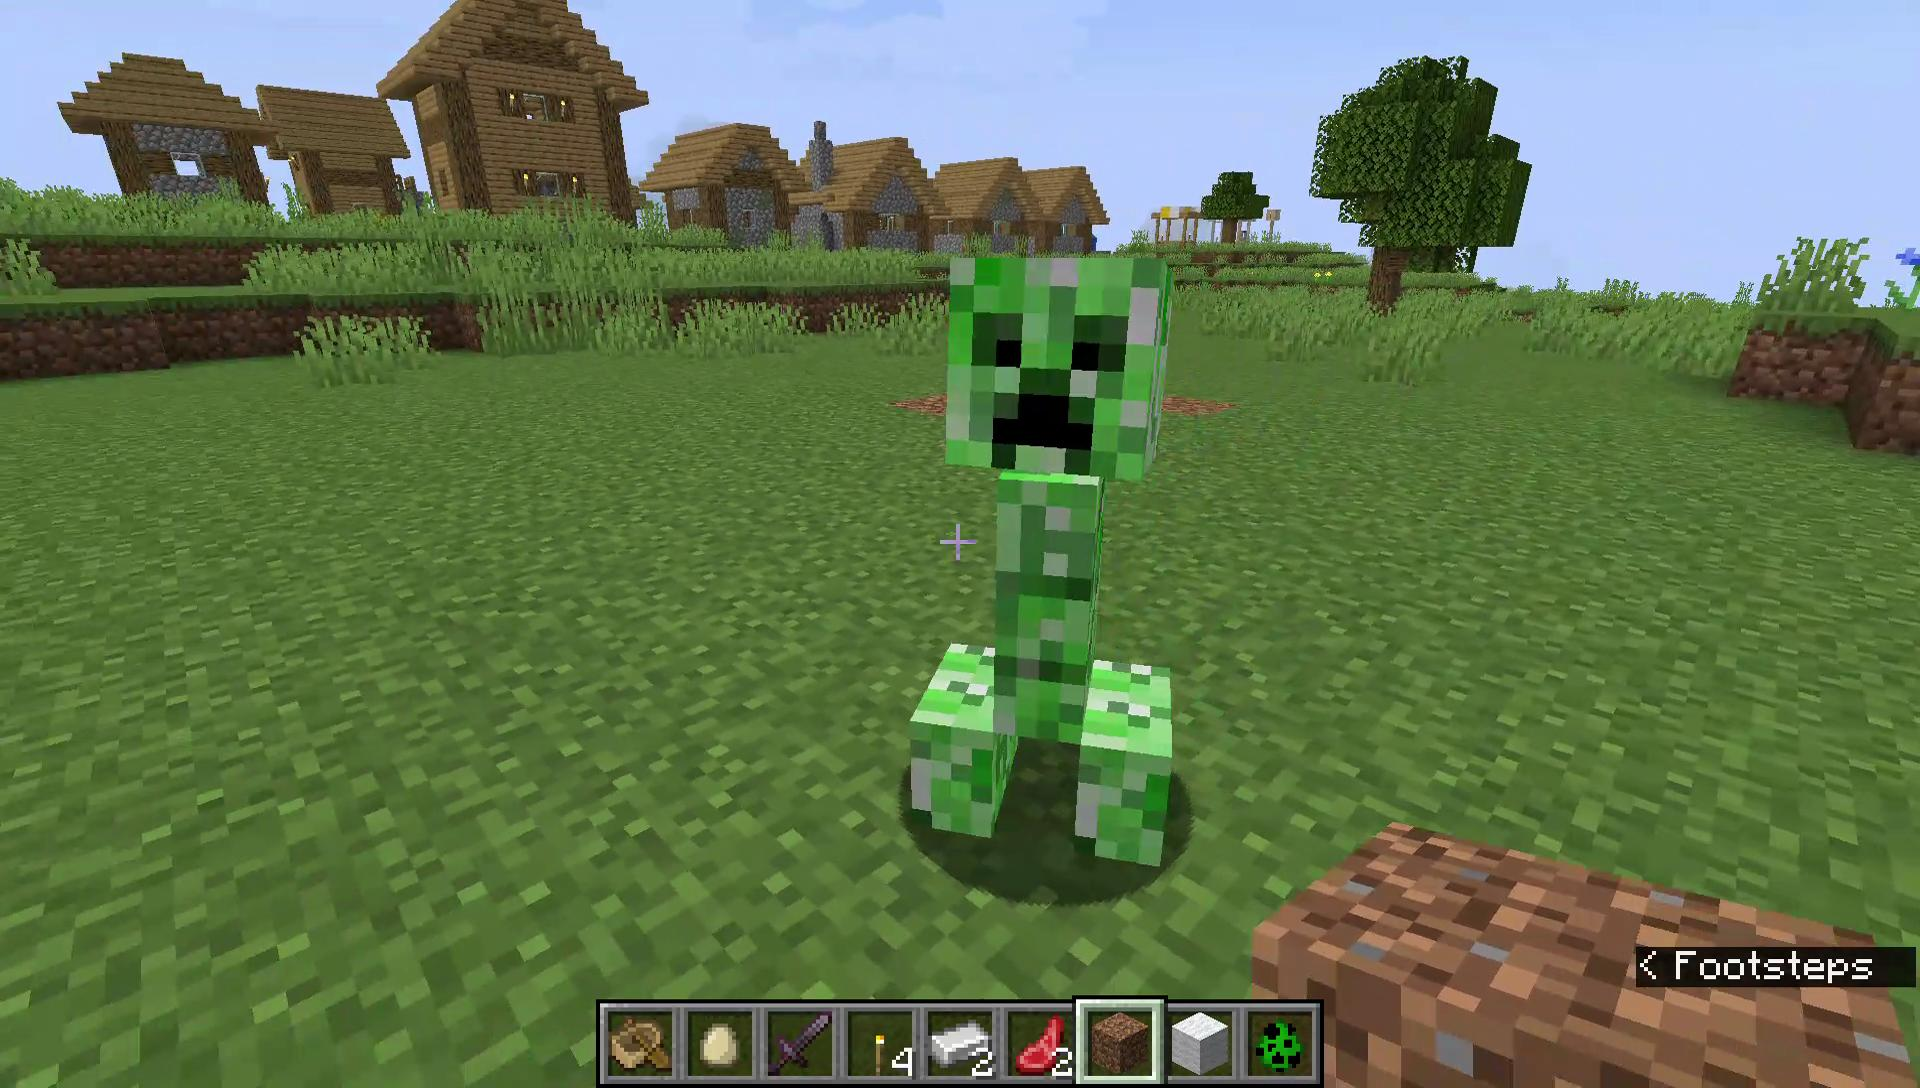creeper: (903, 243, 1188, 881)
